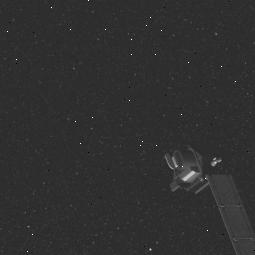earth_observation_sat_1: (156, 130, 247, 209)
